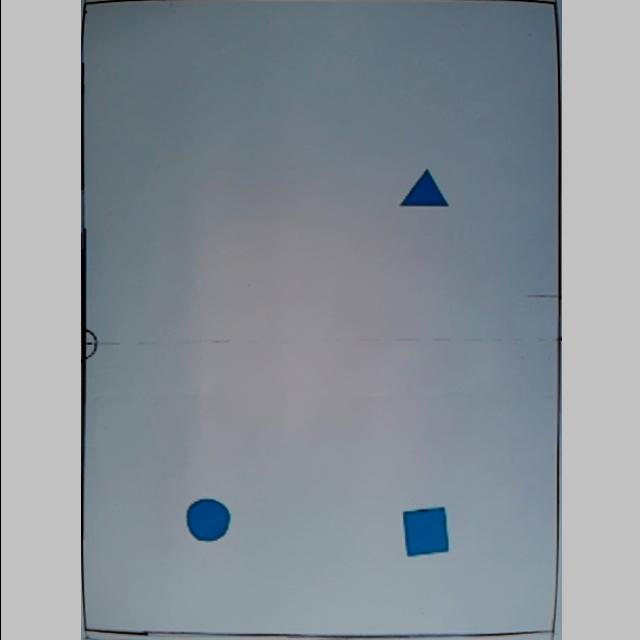blueCircle: (182, 498, 228, 544)
blueSquare: (399, 505, 447, 557)
blueTriangle: (396, 168, 448, 210)
